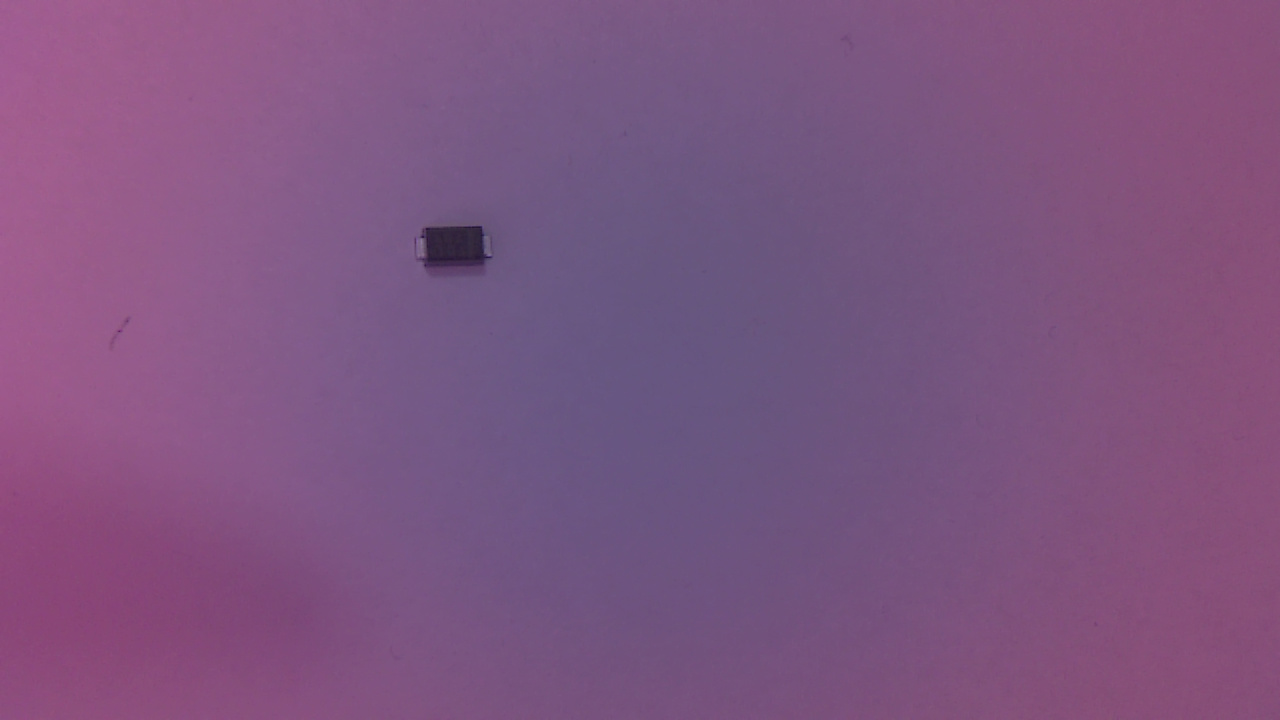Diode: (418, 226, 502, 279)
